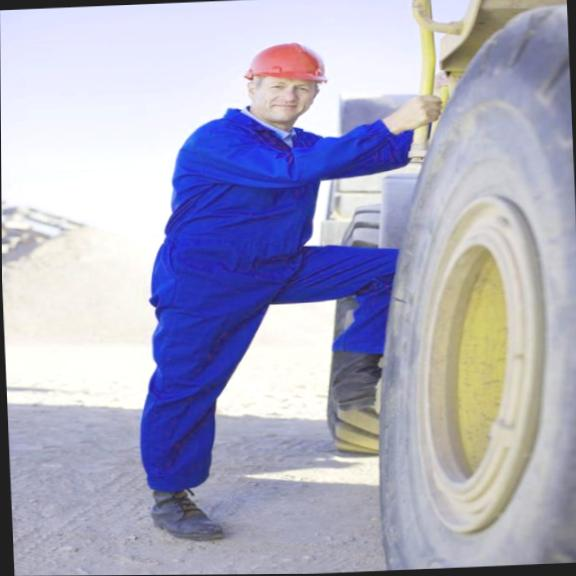no_safety_vest: (152, 109, 354, 311)
